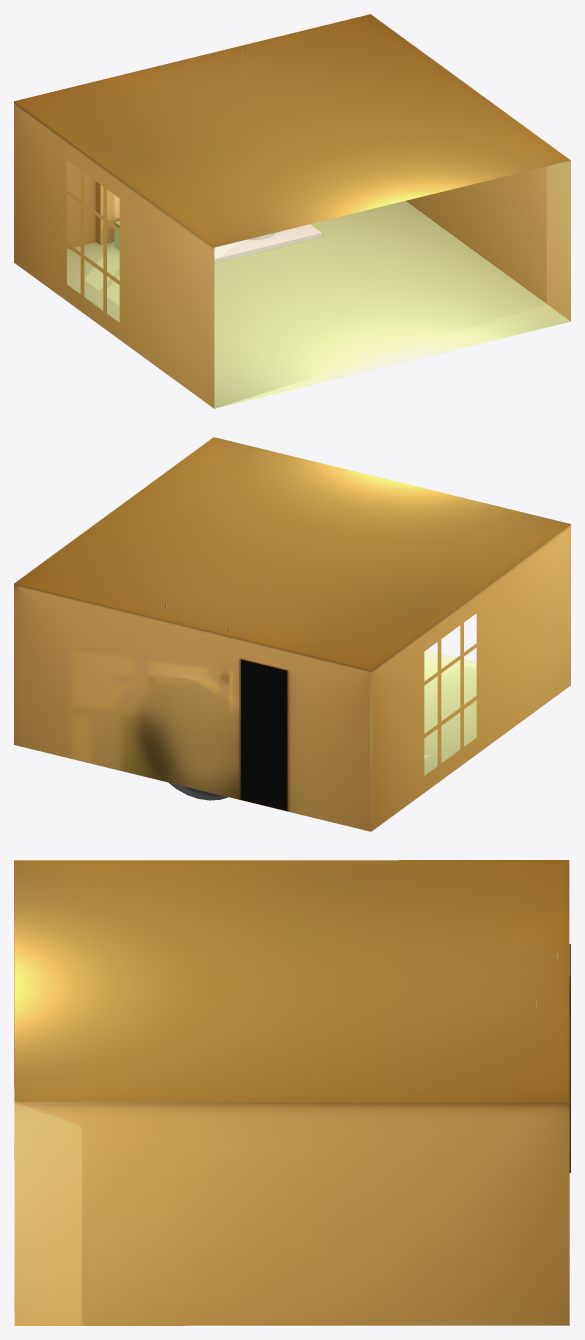
File: orange_simple.glb
3 views of the same model, one above another, from view 1: azimuth 30°, elevation 25°; view 2: azimuth 150°, elevation 25°; view 3: azimuth 270°, elevation 25° (orthographic). The views are drawn at different scales.
Visible parts, largest first — view 1: qiang, floor_di, baichengshe, chenshe; view 2: qiang, floor_di; view 3: qiang.
Part boxes in pixels (x1,y1,x2,y2): qiang: [14, 14, 570, 408]; floor_di: [67, 201, 570, 408]; baichengshe: [164, 51, 321, 263]; chenshe: [97, 182, 119, 249]; qiang: [14, 437, 570, 831]; floor_di: [424, 650, 476, 775]; qiang: [14, 860, 569, 1325].
Bounding box in the file's own units: 7.3 × 3.51 × 7.1.
14 materials, 14 textured.
